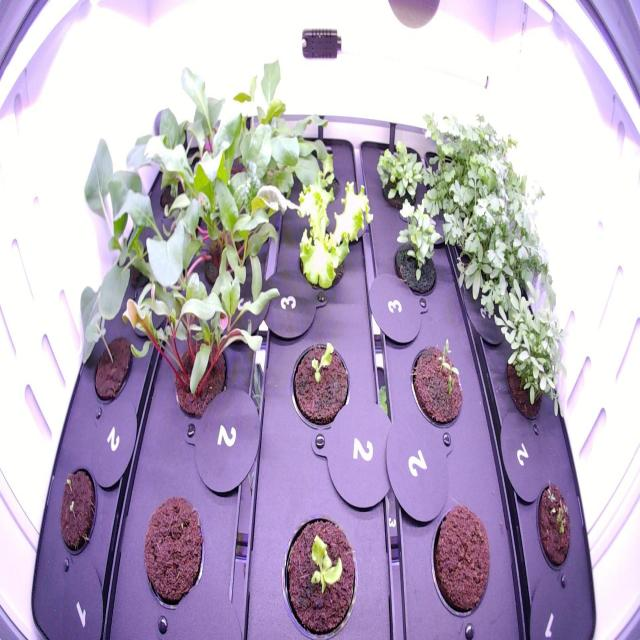germination: (406, 332, 470, 434), (386, 198, 446, 303), (528, 467, 579, 582), (52, 455, 102, 563), (372, 138, 431, 215)
pod: (424, 497, 495, 628), (136, 485, 208, 613)
young: (277, 495, 367, 638), (284, 324, 354, 438)
